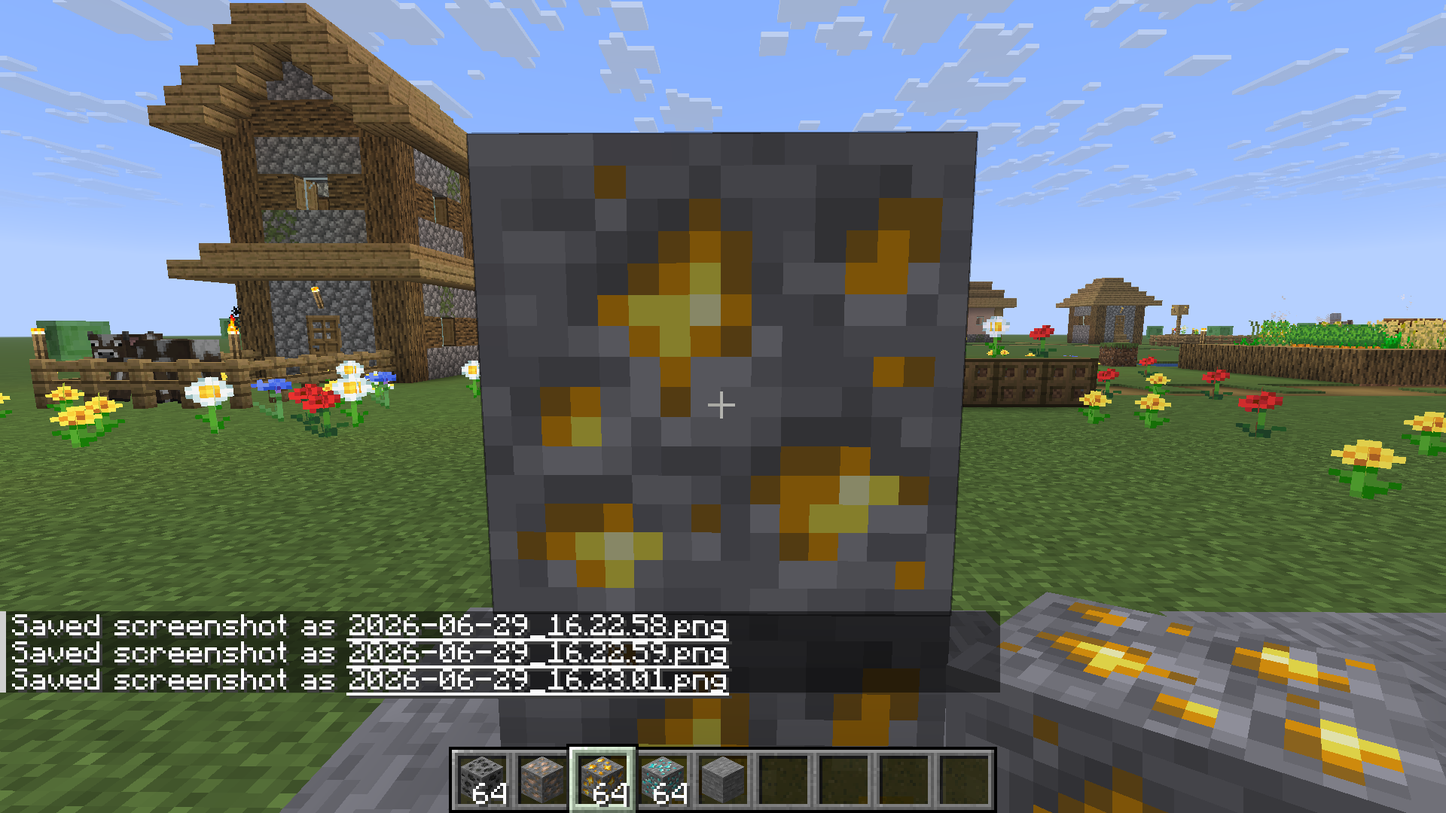cow: (87, 332, 135, 366)
gold ore: (471, 133, 970, 609)
